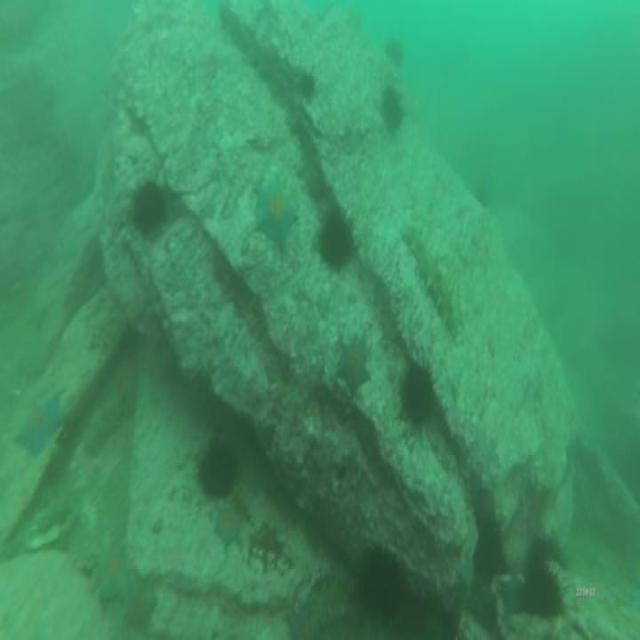echinus: (361, 547, 399, 618), (316, 207, 352, 267), (400, 365, 431, 428), (526, 561, 558, 618), (133, 180, 168, 231), (199, 447, 233, 493), (382, 90, 401, 123), (298, 71, 316, 98)
holothurian: (402, 225, 461, 336)
starfish: (16, 390, 60, 455), (256, 177, 296, 245), (90, 547, 127, 599), (338, 337, 370, 395), (126, 577, 156, 629), (284, 602, 318, 640), (502, 572, 526, 620), (217, 504, 244, 545)
